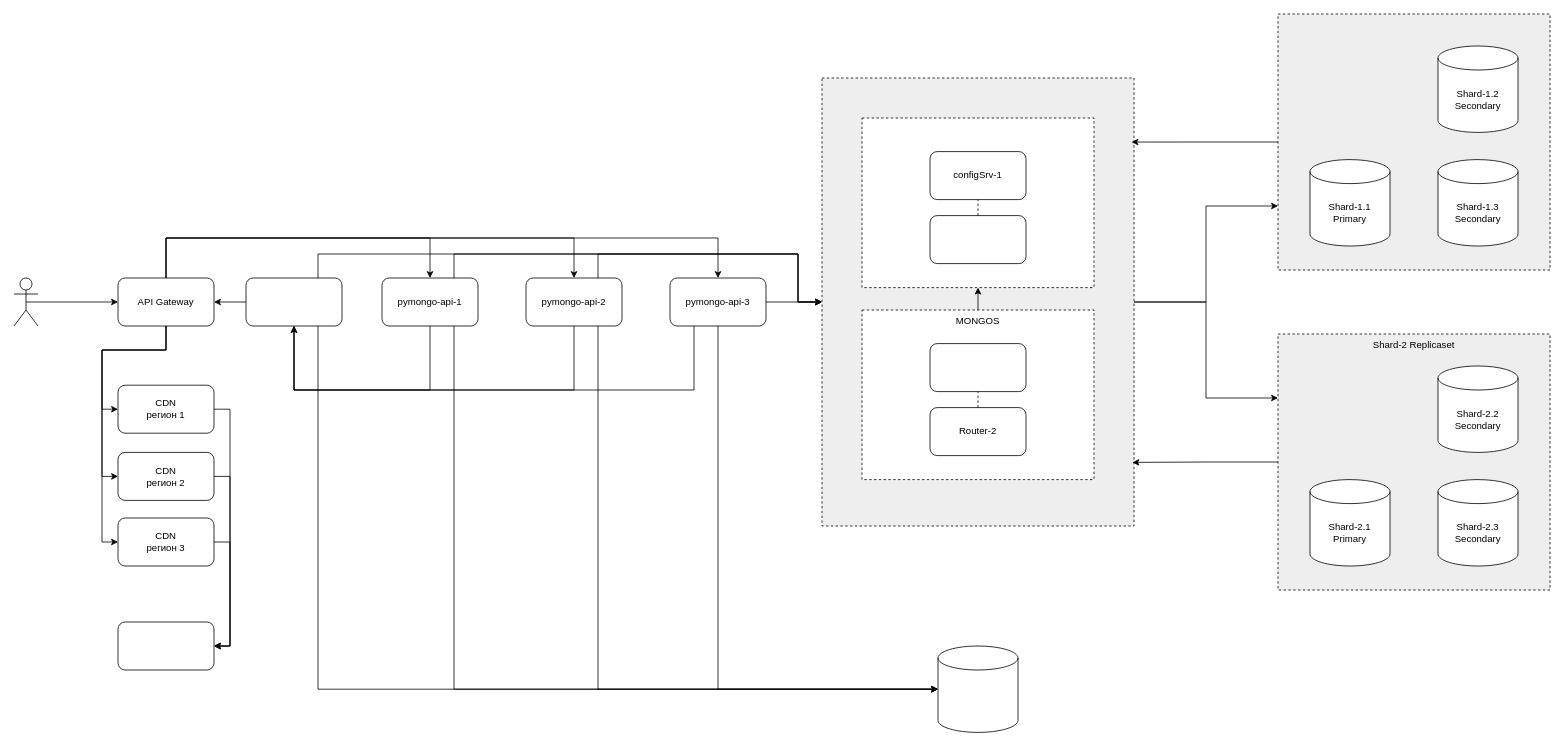
Some shapes in this 1564 by 746 pixel diagram are drawn without their labels. Each missing label, with the box of its shape:
configSrv-2: (929, 215, 1026, 264)
Consul: (245, 277, 342, 326)
MONGOCFG: (861, 117, 1094, 288)
MONGOINFRA: (821, 77, 1134, 526)
Redis: (937, 645, 1018, 732)
Router-1: (929, 343, 1026, 392)
Shard-1 Replicaset: (1277, 13, 1550, 270)
User: (13, 277, 38, 326)
Основноe S3 хранилище: (117, 621, 214, 670)
